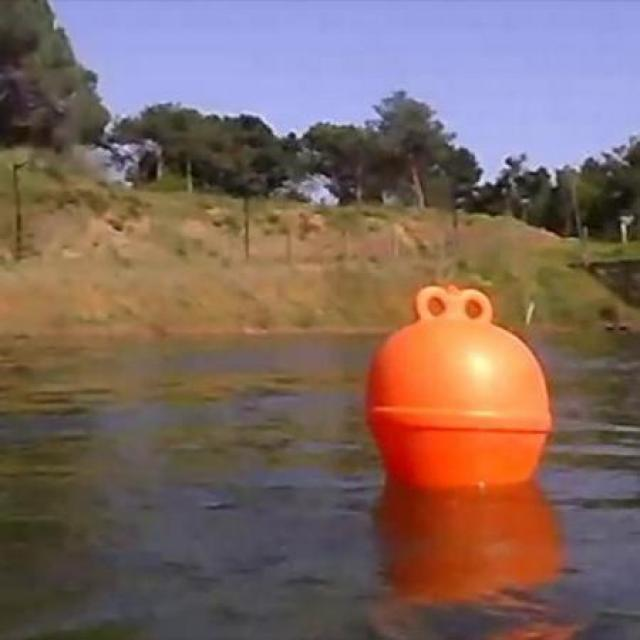buoy: (370, 283, 550, 485)
